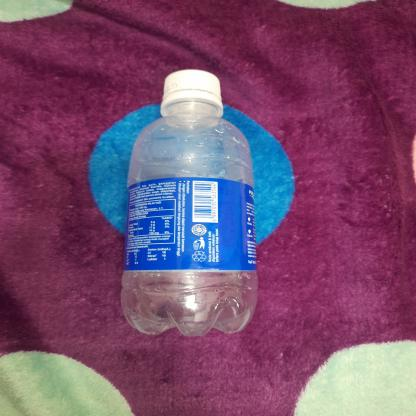bottle: (121, 68, 262, 341)
